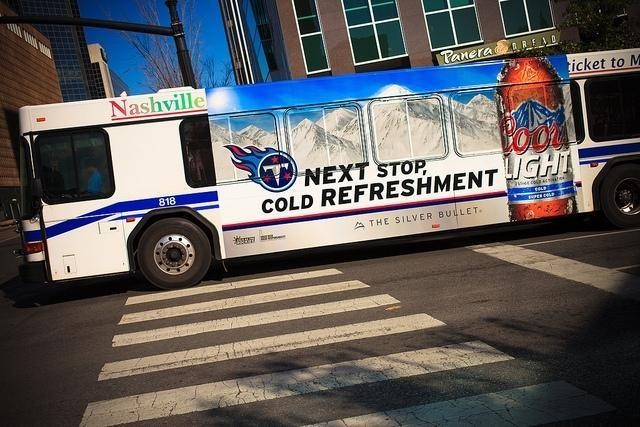bus: (19, 48, 638, 289)
